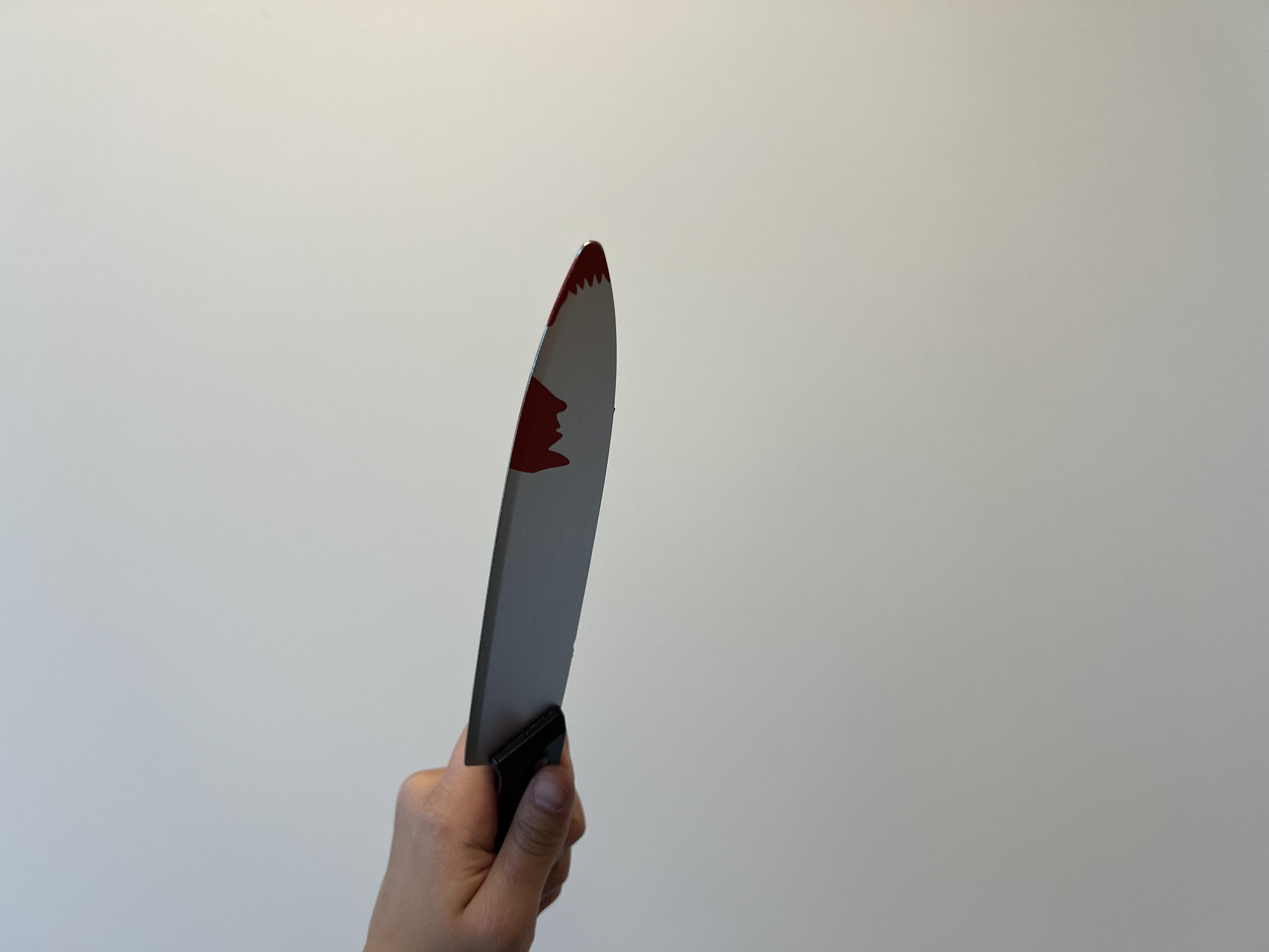Knife: (458, 240, 618, 769), (370, 724, 586, 952), (379, 723, 585, 952)
